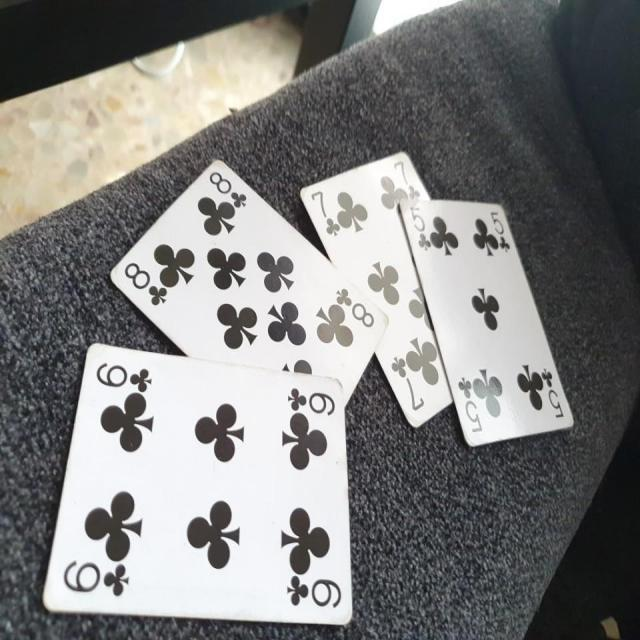5 of clubs: (399, 191, 574, 448)
6 of clubs: (41, 340, 354, 628)
7 of clubs: (298, 150, 455, 433)
8 of clubs: (107, 156, 390, 398)
